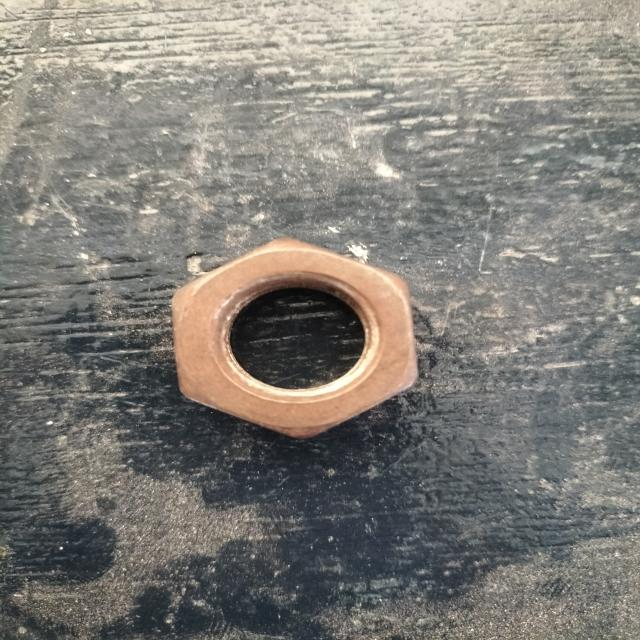nuts: (173, 238, 416, 438)
